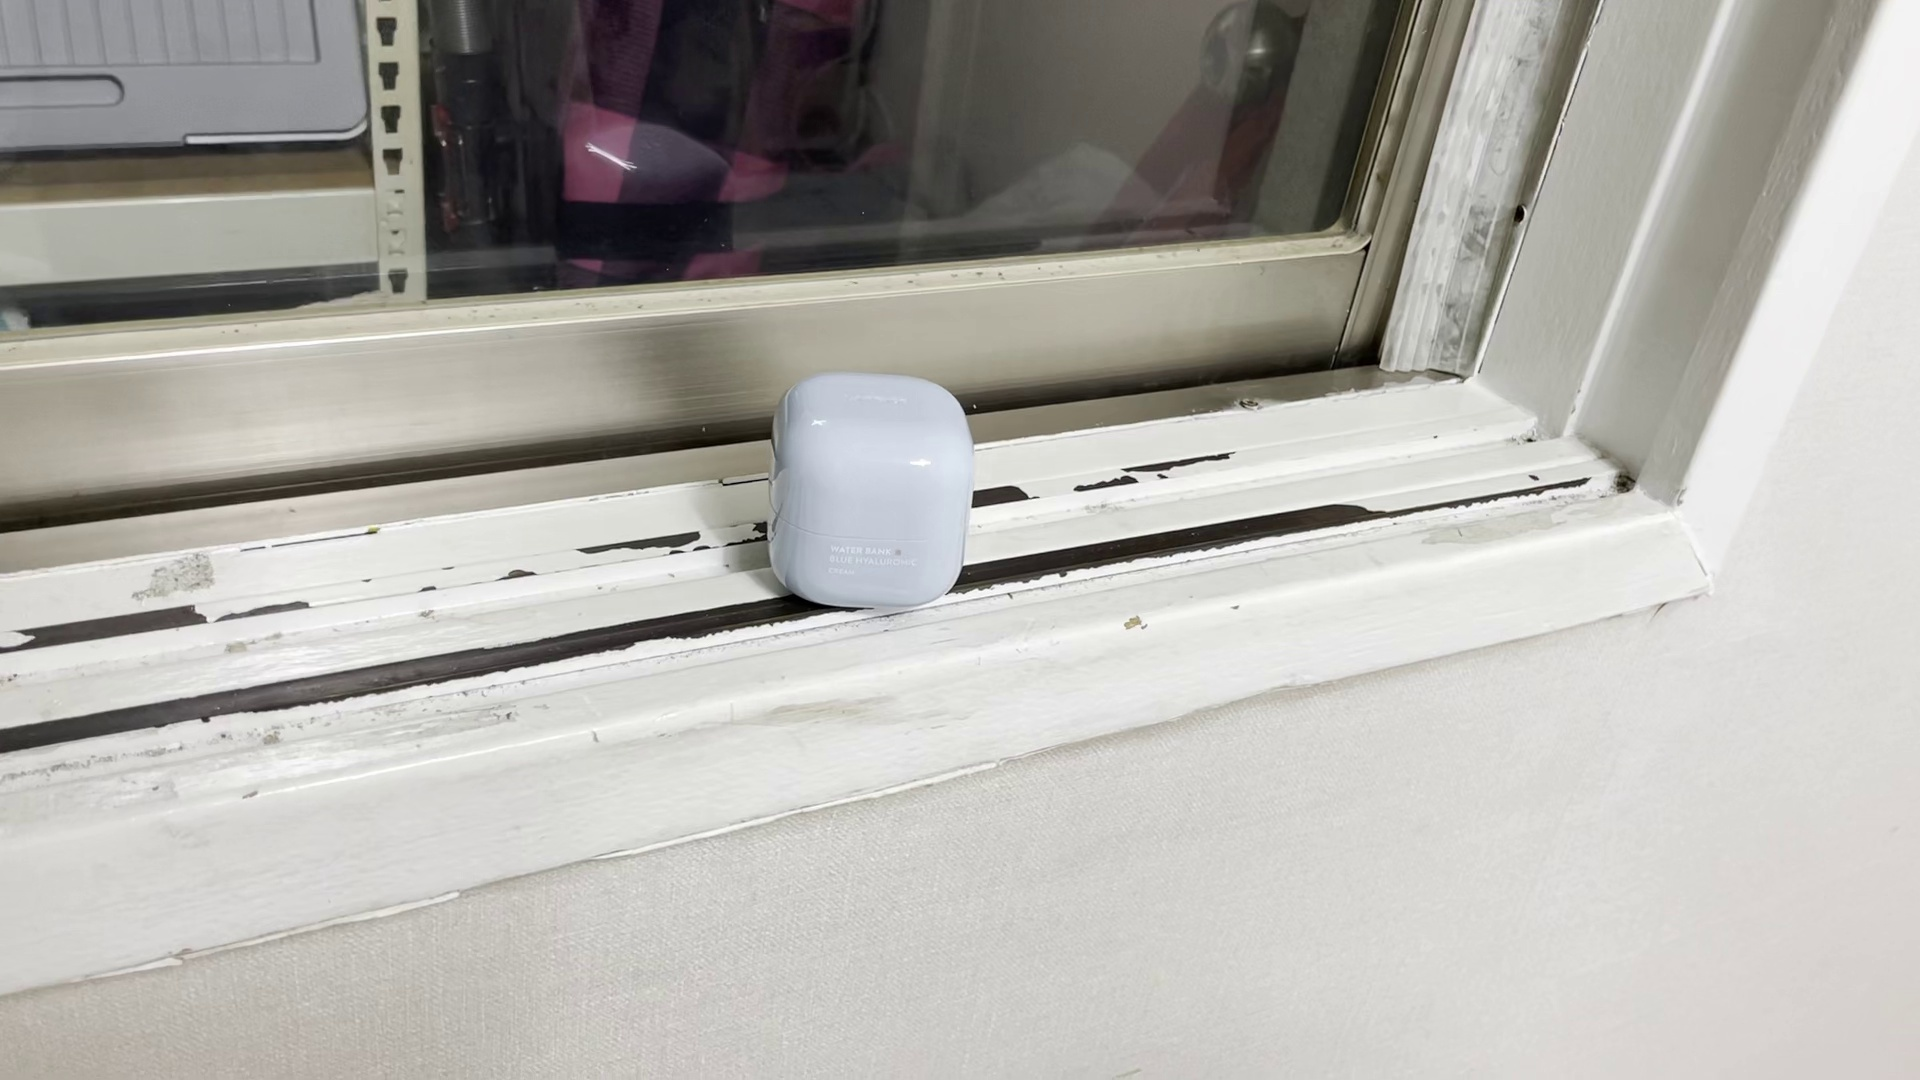cream: (775, 375, 973, 615)
